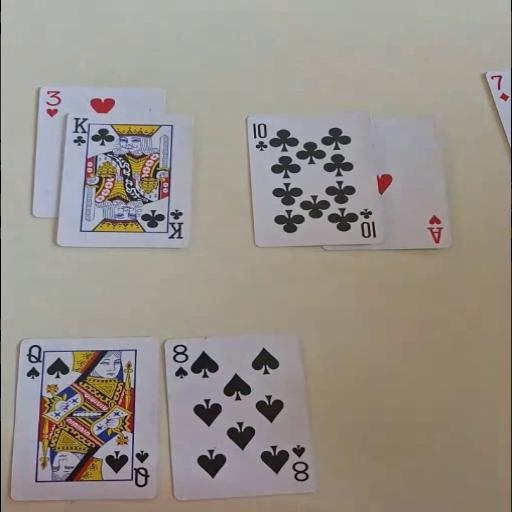10: (358, 207, 377, 239), (250, 121, 269, 152)
3: (42, 88, 62, 118)
7: (488, 73, 510, 102)
8: (290, 442, 310, 483), (170, 342, 190, 379)
A: (426, 213, 444, 244)
K: (162, 205, 185, 239), (70, 114, 88, 146), (70, 129, 88, 147)
Q: (130, 448, 151, 489), (23, 342, 43, 380)
